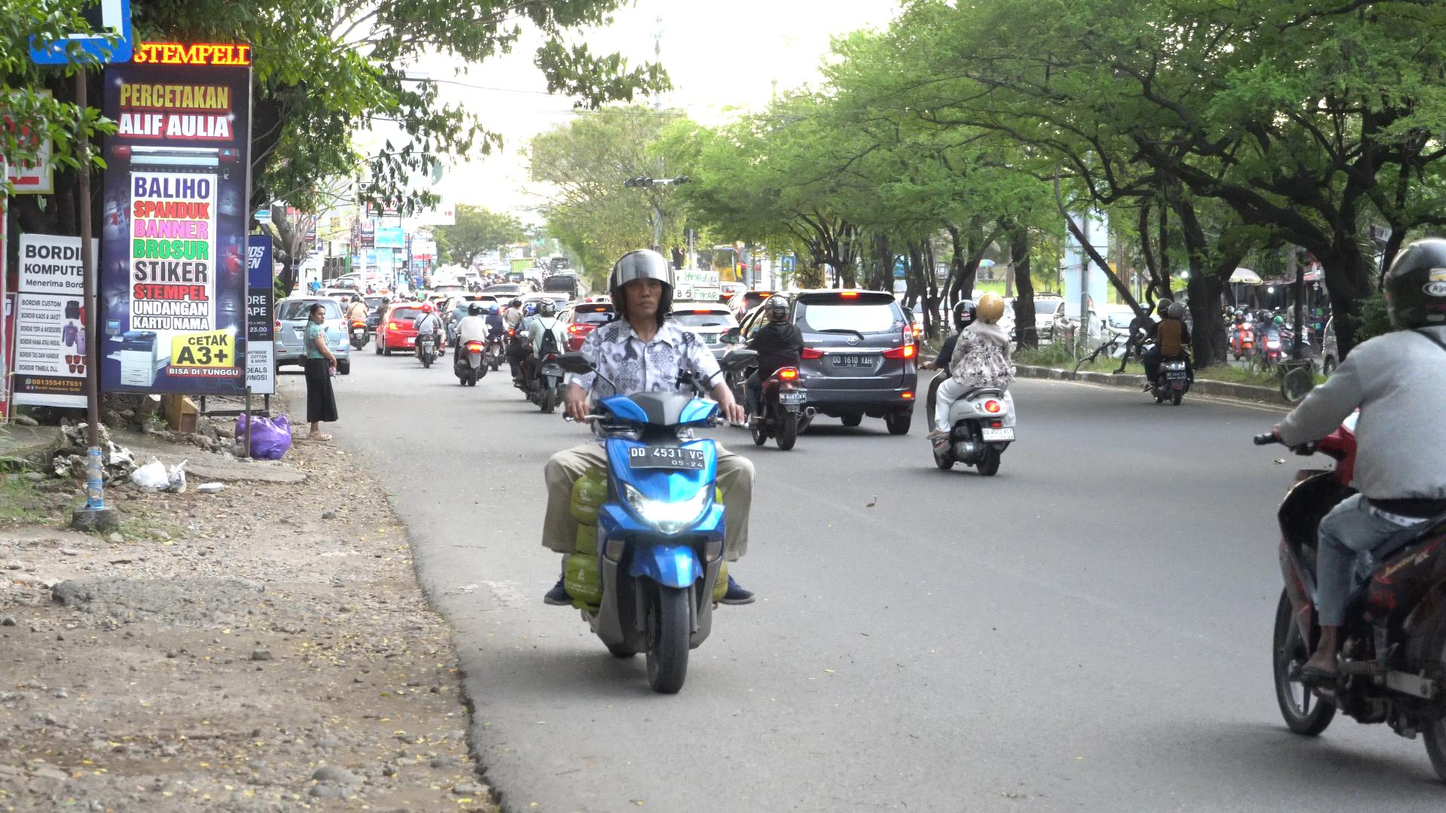number-plate: (628, 440, 710, 476)
